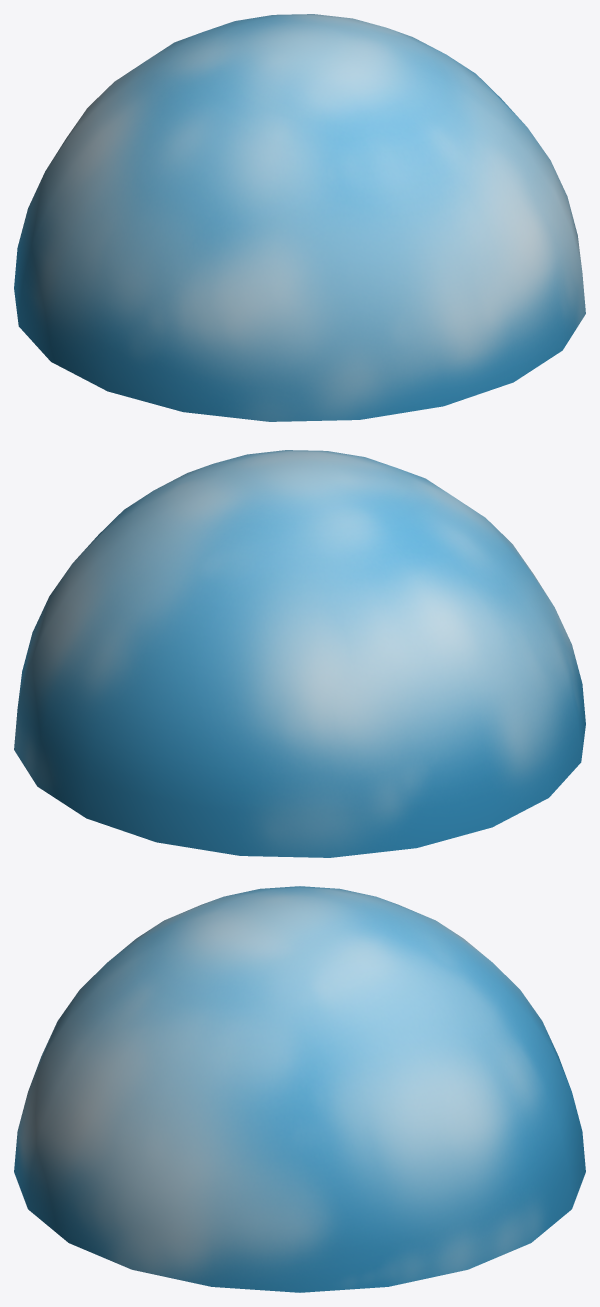
File: New Skydome.fbx
3 renders of one model, top to bottom at view 1: azimuth 30°, elevation 25°; view 2: azimuth 150°, elevation 25°; view 3: azimuth 270°, elevation 25°, orthographic.
Parts seen in each view (by area): view 1: pSphere2; view 2: pSphere2; view 3: pSphere2.
Boxes of the visible parts, <box> form: pSphere2: <box>14,14,585,421</box>; pSphere2: <box>14,450,585,857</box>; pSphere2: <box>14,886,585,1292</box>.
Bounding box in the file's own units: 109 × 54.32 × 109.
Materials: 1 (1 with a texture image).
